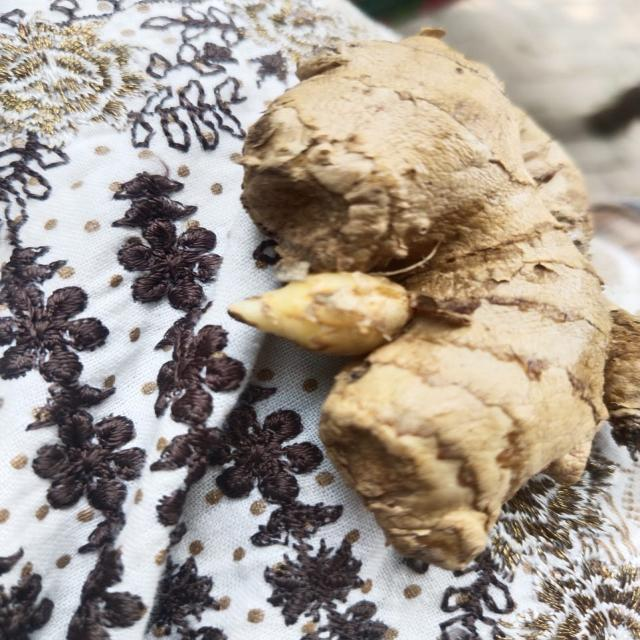ginger: (255, 18, 602, 527)
